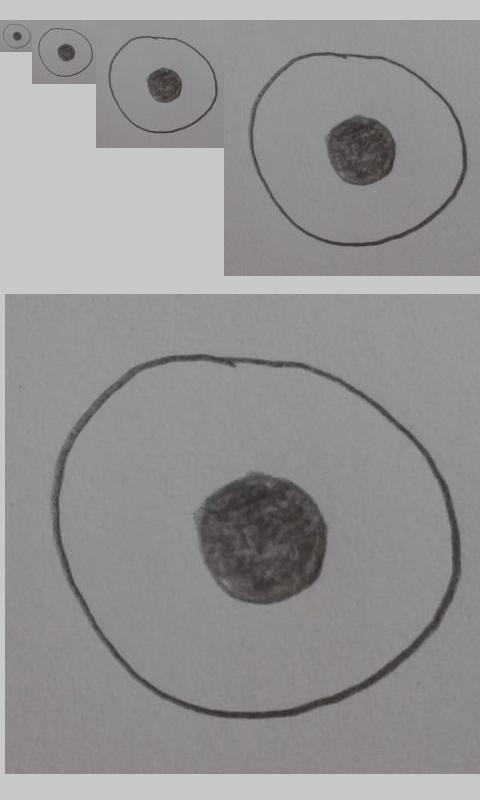radio_button: (49, 352, 463, 722), (246, 50, 469, 250), (107, 35, 220, 134), (37, 27, 94, 78), (2, 23, 31, 49)
